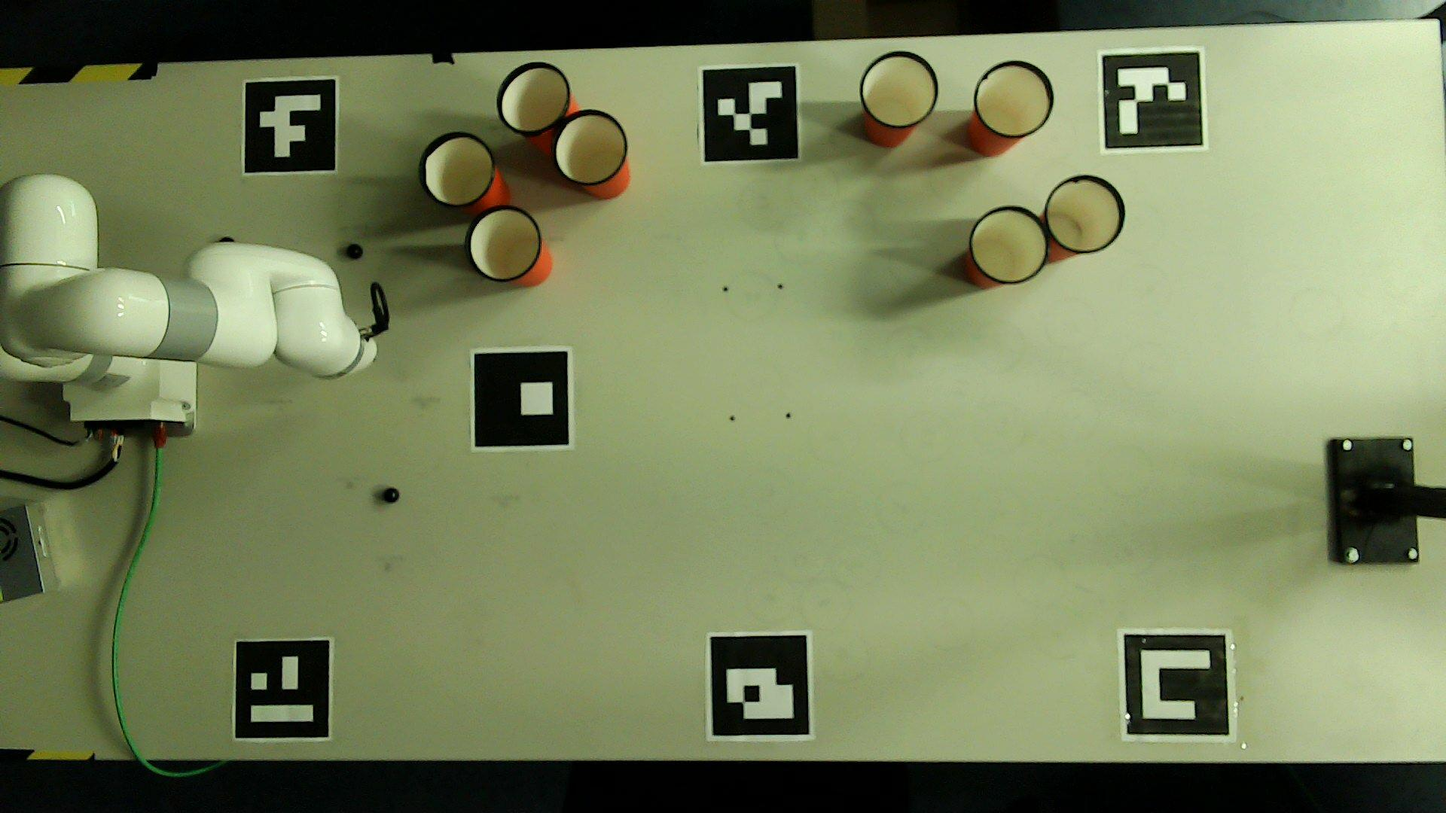ball: (347, 244, 363, 259), (384, 489, 398, 502)
cup: (1045, 176, 1121, 251), (972, 207, 1046, 283), (861, 53, 935, 127), (421, 133, 494, 206), (468, 208, 540, 282), (552, 111, 626, 183), (977, 64, 1050, 135), (498, 64, 568, 131)
